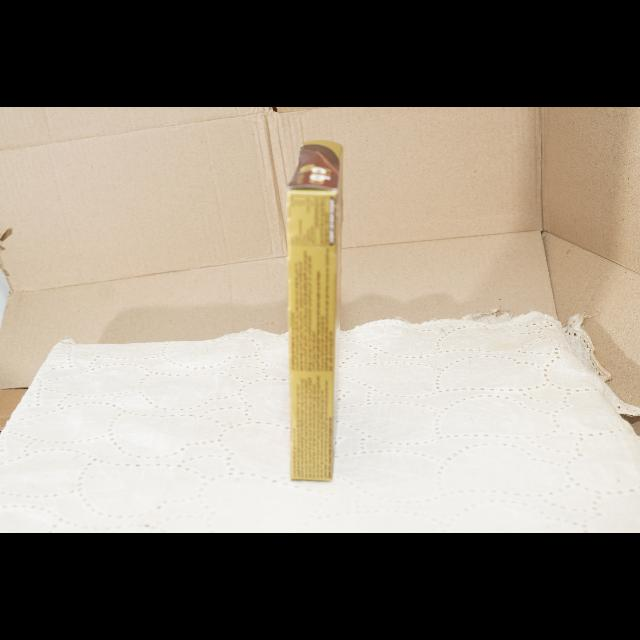banh_toppo_socola: (287, 141, 342, 481)
